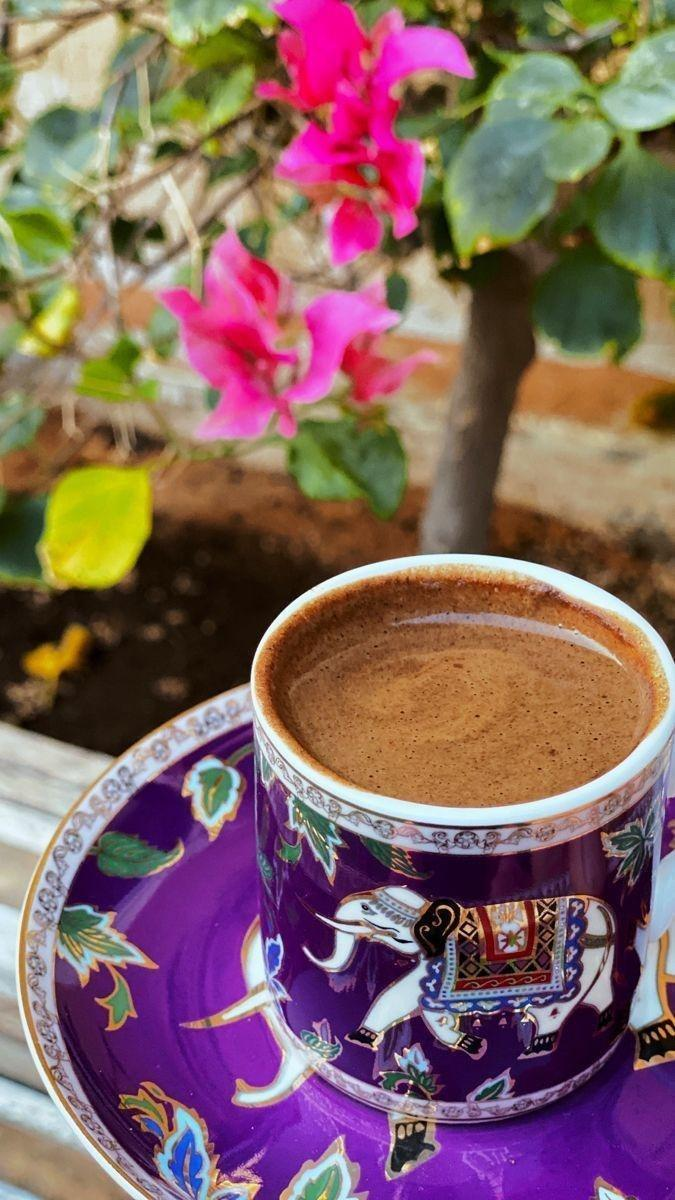cup-handle: (247, 551, 674, 1125)
